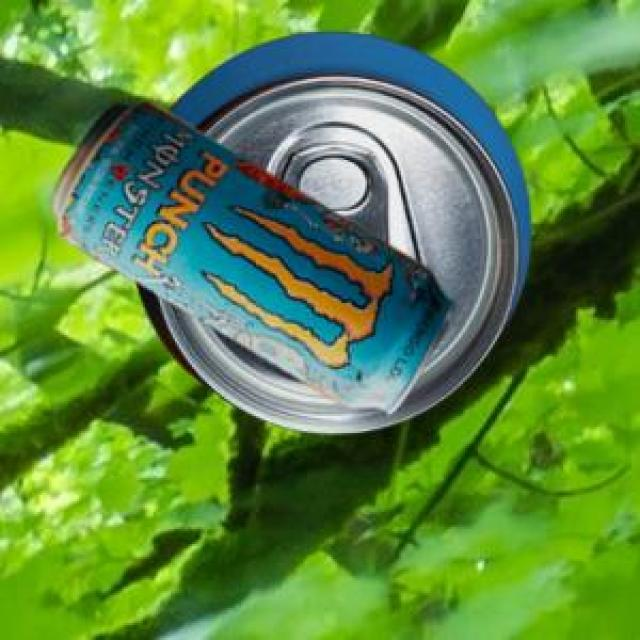logam: (133, 29, 528, 430), (50, 99, 451, 411)
